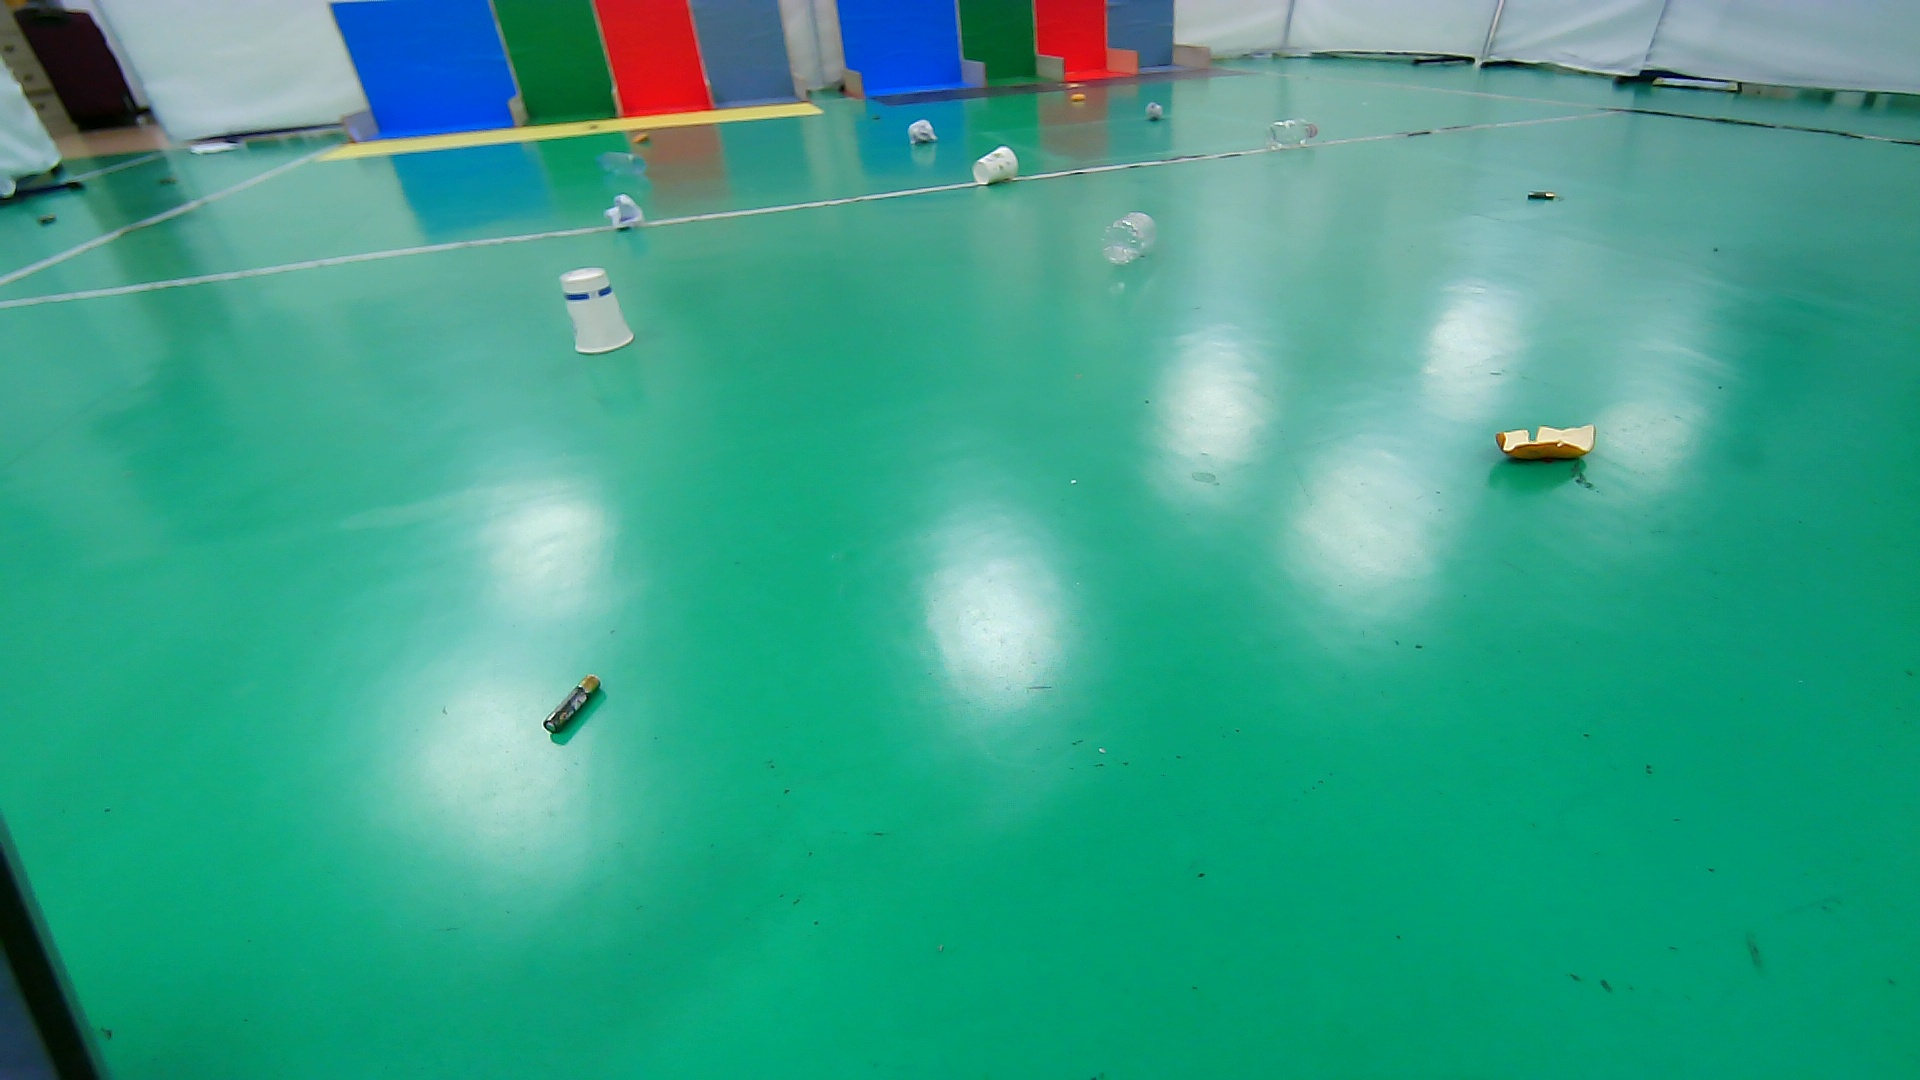battery: (521, 649, 626, 766), (1514, 179, 1571, 211)
bottle: (1095, 206, 1163, 270), (1262, 116, 1320, 153), (587, 149, 650, 181)
orangepeel: (1480, 404, 1617, 487), (1062, 88, 1095, 105), (626, 128, 655, 146)
papercup: (556, 265, 637, 356), (968, 142, 1023, 189)
spitball: (603, 193, 647, 233), (903, 117, 939, 149), (1142, 99, 1170, 125)
